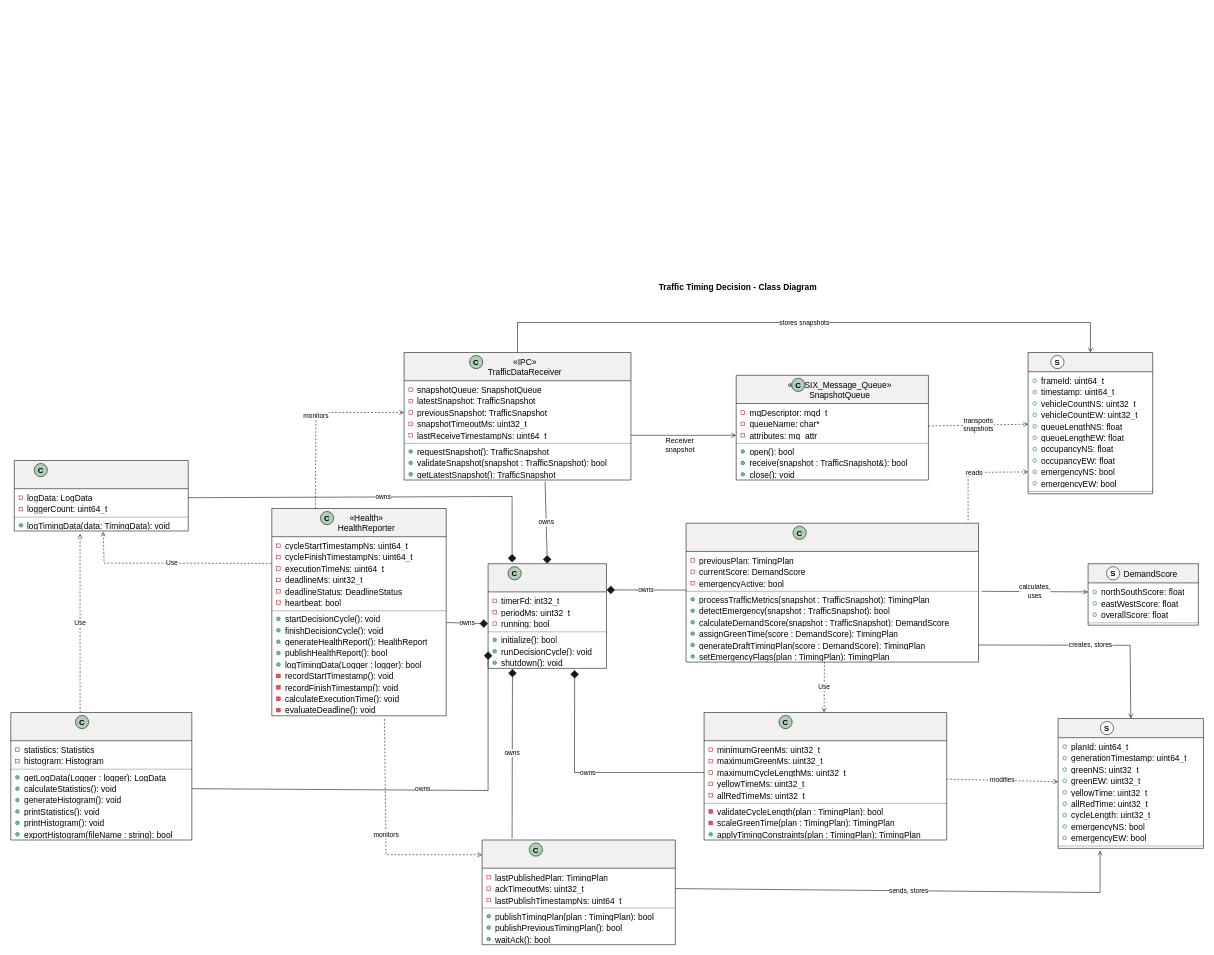
Some shapes in this 1214 by 955 pixel diagram are drawn without their labels. Here are the shapes that lost their labels. From the top down, the box of each, then its label:
(1028, 352, 1153, 494): TrafficSnapshot
(14, 460, 188, 531): «RT_Service» Logger
(686, 523, 979, 662): «Algorithm» DecisionEngine
(488, 563, 606, 668): «RT_Service» PeriodicService
(10, 712, 192, 840): «Analytics» Analytics
(704, 712, 947, 840): «Constraint» ConstraintManager
(1058, 718, 1203, 848): TimingPlan
(482, 839, 675, 945): «IPC» TimingPlanPublisher
